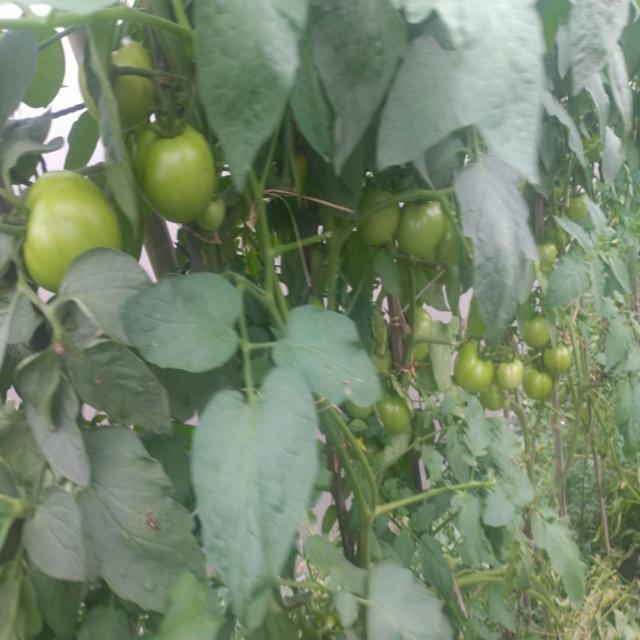tomato: (135, 120, 222, 222), (24, 178, 125, 265), (357, 185, 405, 251), (401, 202, 446, 258), (448, 341, 490, 390), (202, 199, 234, 246), (122, 77, 156, 119), (115, 37, 153, 70), (495, 356, 527, 394), (384, 390, 408, 434), (527, 363, 554, 401), (544, 344, 575, 377), (522, 313, 551, 348), (412, 306, 434, 341), (567, 194, 586, 224), (544, 240, 561, 268)
